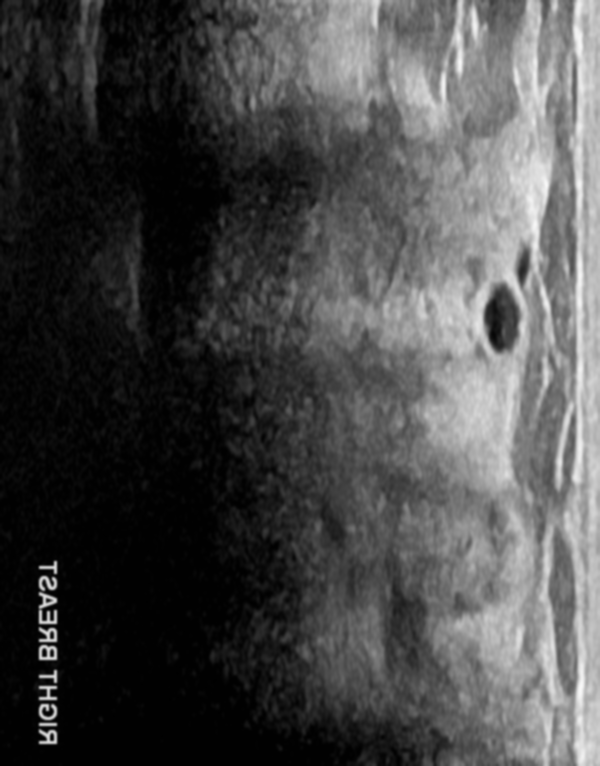Benign: (471, 278, 528, 358)
